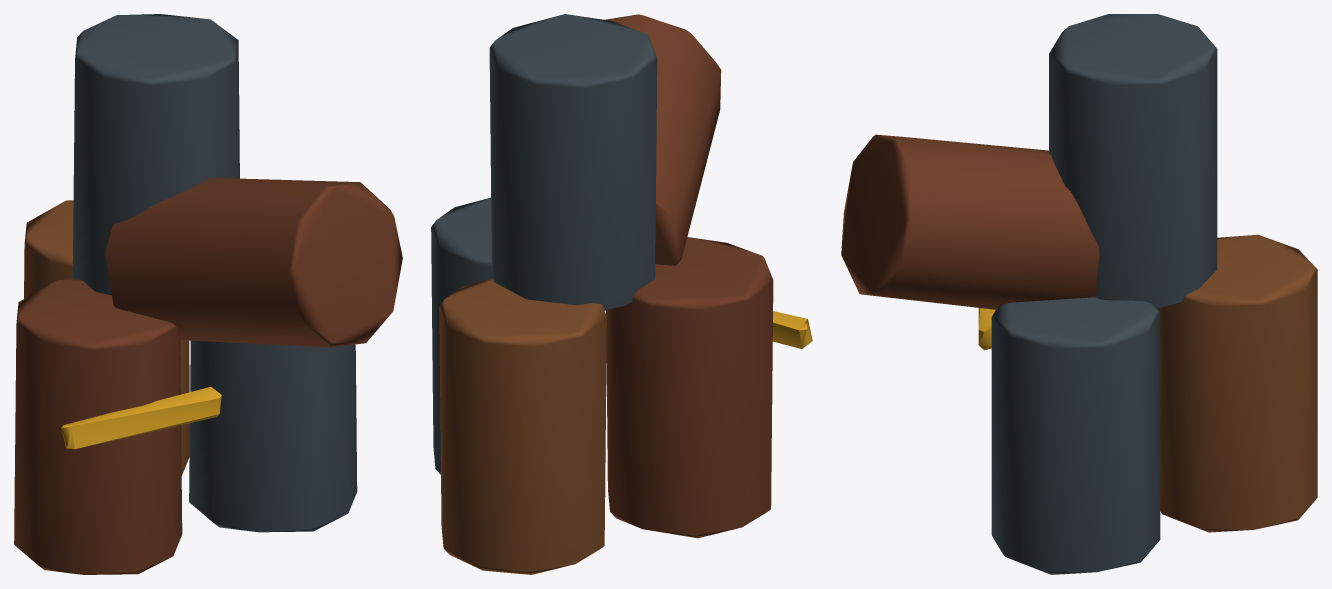
Rendered from fuel_barrel_stack_lod1.glb.
The picture shows the model from 3 angles, left to right: view 1: azimuth 30°, elevation 25°; view 2: azimuth 150°, elevation 25°; view 3: azimuth 270°, elevation 25°; orthographic projection.
Parts seen in each view (by area): view 1: prop.fuel_barrel_stack; view 2: prop.fuel_barrel_stack; view 3: prop.fuel_barrel_stack.
Boxes of the visible parts, x1,y1,x2,y2 form: prop.fuel_barrel_stack: (14, 14, 402, 574); prop.fuel_barrel_stack: (431, 14, 812, 574); prop.fuel_barrel_stack: (841, 14, 1317, 574).
Bounding box in the file's own units: 1.26 × 1.7 × 1.62.
